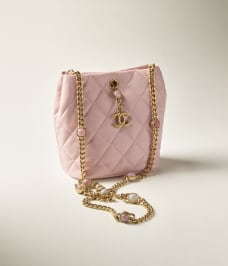channel: (55, 60, 175, 186), (93, 128, 144, 168), (75, 73, 92, 176), (110, 110, 142, 128)
